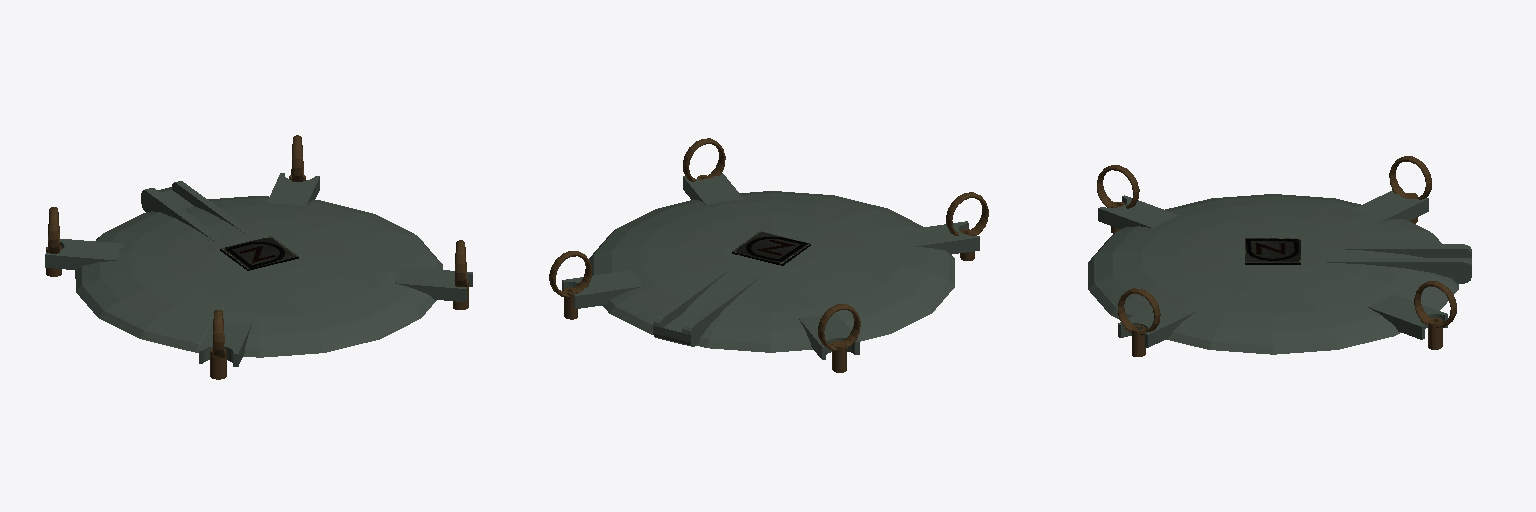
The picture shows the model from 3 angles: view 1: azimuth 30°, elevation 25°; view 2: azimuth 150°, elevation 25°; view 3: azimuth 270°, elevation 25°; orthographic projection.
Visible parts, largest first — view 1: porthole.obj; view 2: porthole.obj; view 3: porthole.obj.
Boxes of the visible parts, x1=… form: porthole.obj: x1=45, y1=135, x2=472, y2=379; porthole.obj: x1=549, y1=138, x2=988, y2=372; porthole.obj: x1=1088, y1=156, x2=1471, y2=356.
Size of the model in its own units: 6 by 1.16 by 6.18.
1 materials, 1 textured.